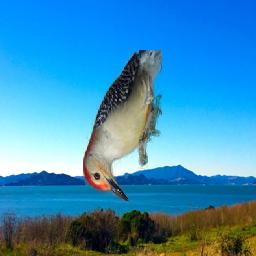Woodpecker: (84, 51, 163, 202)
